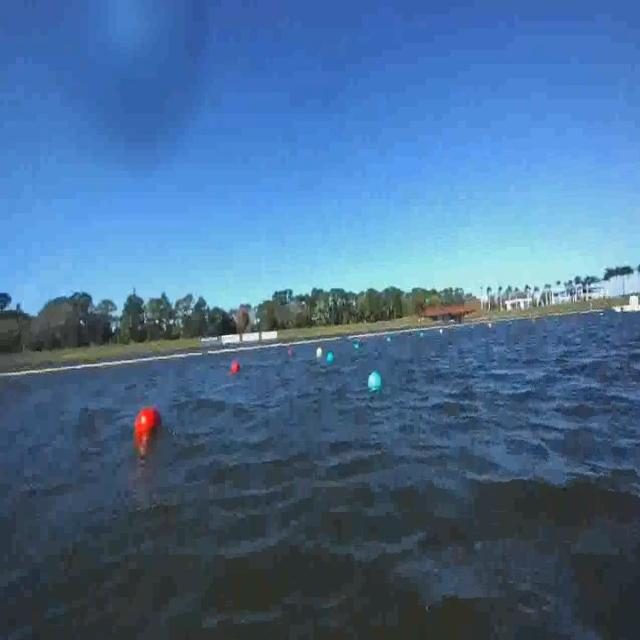green-buoy: (364, 369, 386, 394)
red-buoy: (132, 404, 163, 451)
